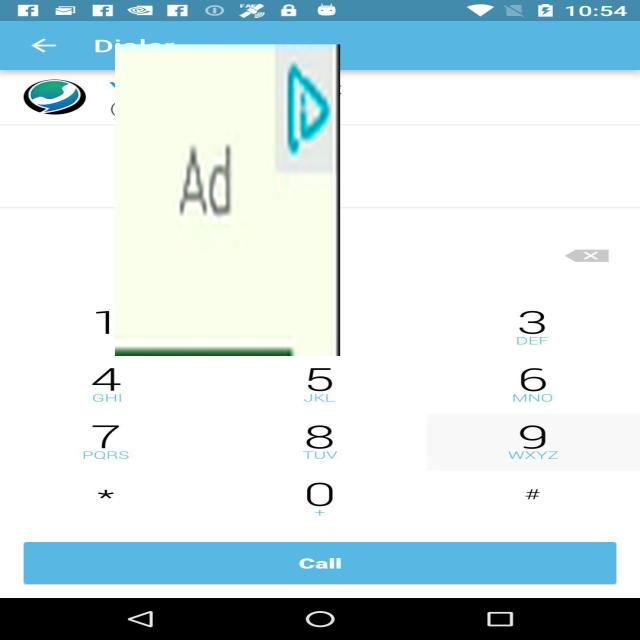sneaking: (115, 44, 340, 356)
